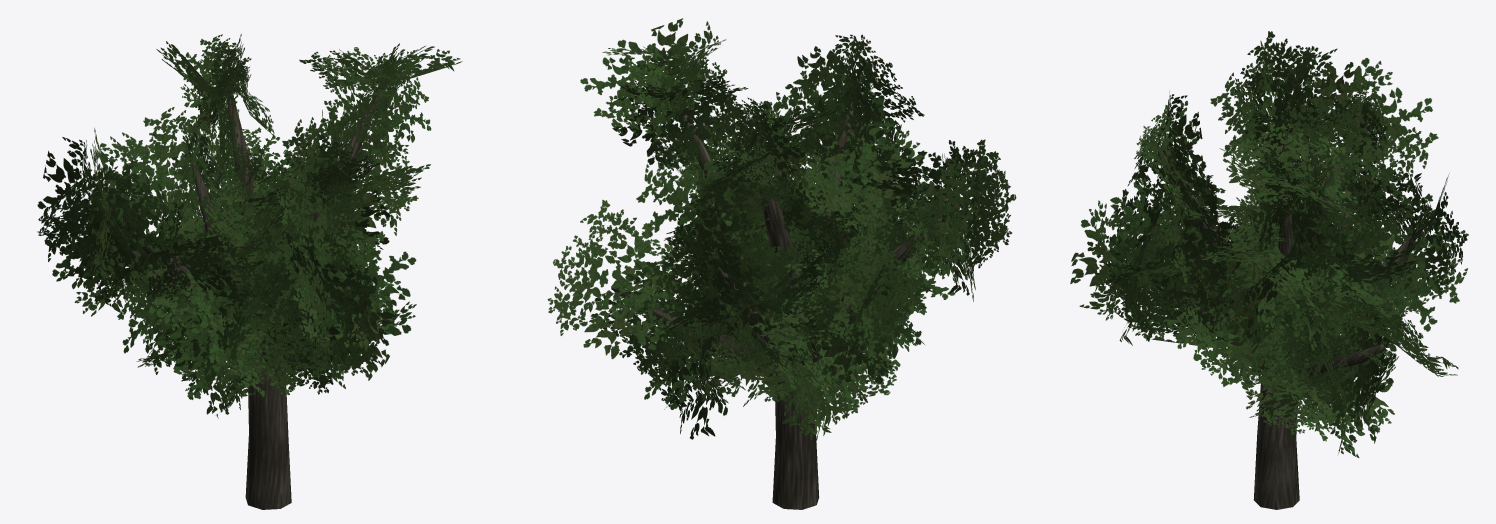
File: tree03.glb
3 renders of one model, left to right at view 1: azimuth 30°, elevation 25°; view 2: azimuth 150°, elevation 25°; view 3: azimuth 270°, elevation 25°, orthographic. The views are drawn at different scales.
Visible parts, largest first — view 1: Cylinder; view 2: Cylinder; view 3: Cylinder.
Part boxes in pixels (x1,y1,x2,y2): Cylinder: [37, 33, 462, 509]; Cylinder: [547, 18, 1016, 509]; Cylinder: [1070, 31, 1468, 509].
Bounding box in the file's own units: 3.85 × 4.16 × 3.5.
2 materials, 2 textured.
